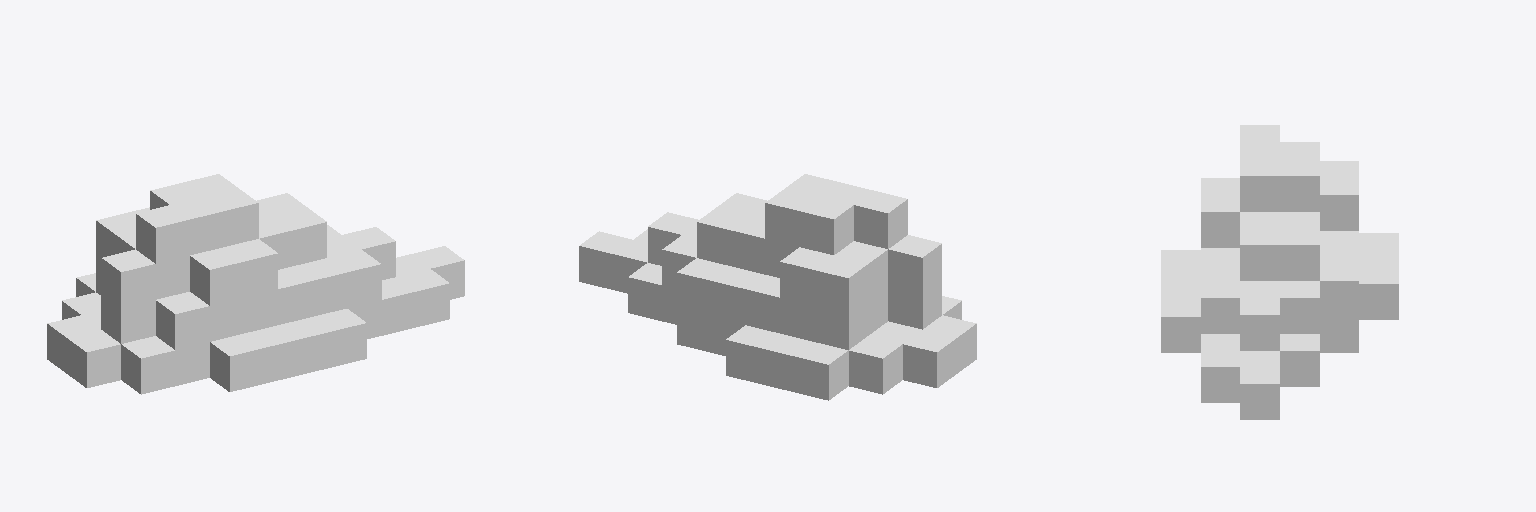
The picture shows the model from 3 angles: view 1: azimuth 30°, elevation 25°; view 2: azimuth 150°, elevation 25°; view 3: azimuth 270°, elevation 25°; orthographic projection.
Bounding box in the file's own units: 11 × 4 × 6.
1 materials, 1 textured.